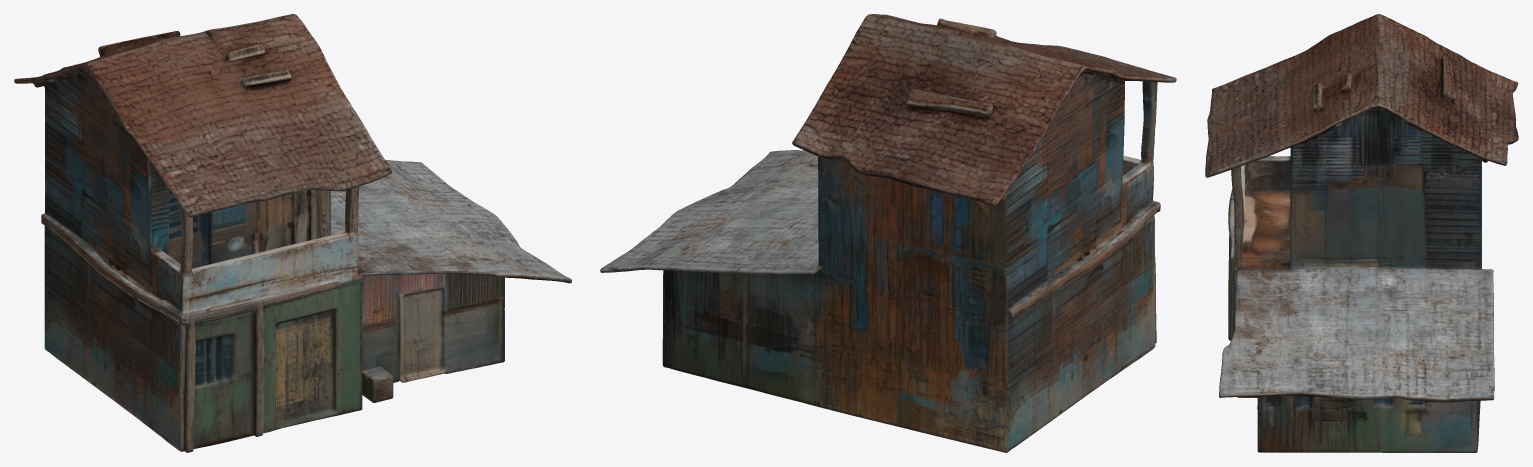
File: Copilot3D-e7609421-c809-4b38-bb78-0cd1ffa0f989.glb
3 renders of one model, left to right at view 1: azimuth 30°, elevation 25°; view 2: azimuth 150°, elevation 25°; view 3: azimuth 270°, elevation 25°, orthographic. The views are drawn at different scales.
Visible parts, largest first — view 1: world; view 2: world; view 3: world.
Part boxes in pixels (x1=…): world: x1=14, y1=14, x2=571, y2=452; world: x1=600, y1=14, x2=1176, y2=452; world: x1=1205, y1=14, x2=1518, y2=452.
Size of the model in its own units: 1 by 0.8033 by 0.7753.
Materials: 1 (1 with a texture image).
